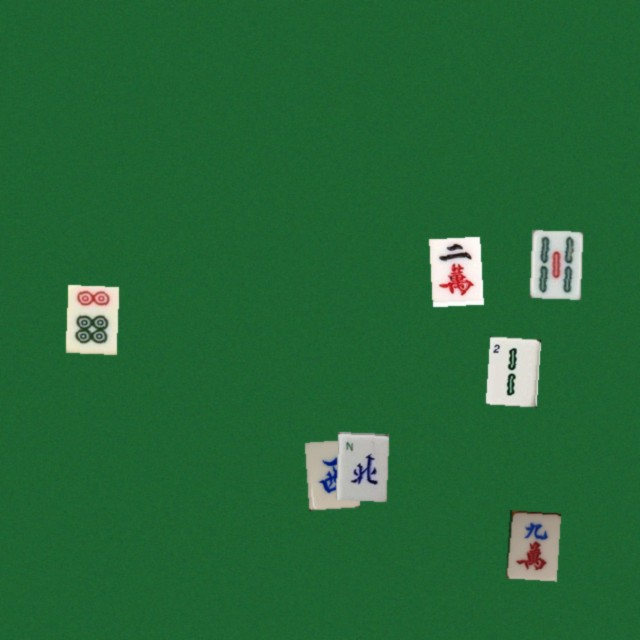tile: (304, 439, 355, 507), (485, 336, 536, 404), (505, 510, 556, 578), (529, 230, 580, 298), (335, 431, 386, 499), (65, 284, 116, 352), (429, 236, 480, 304)
